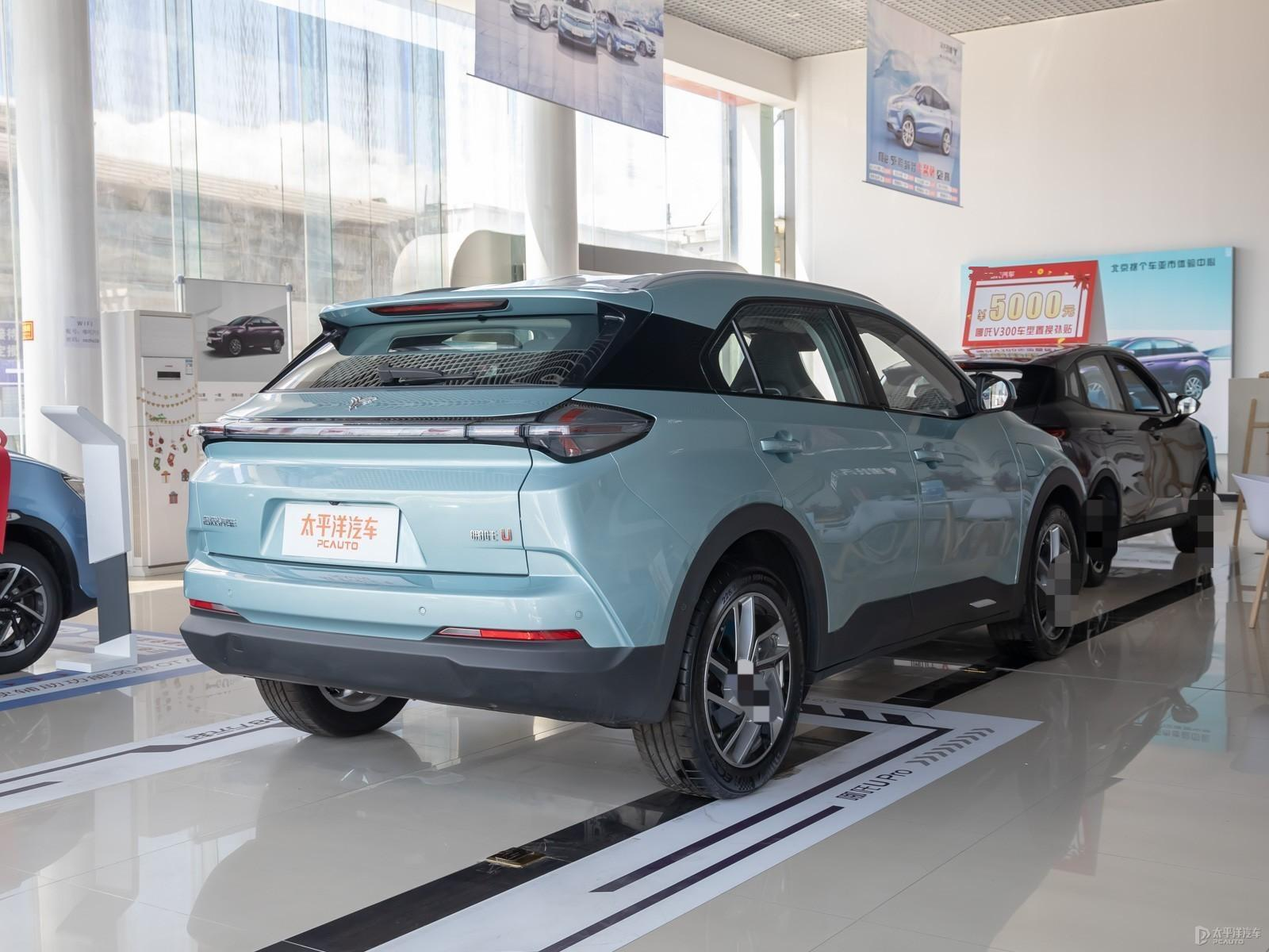NETA: (348, 396, 378, 412)
